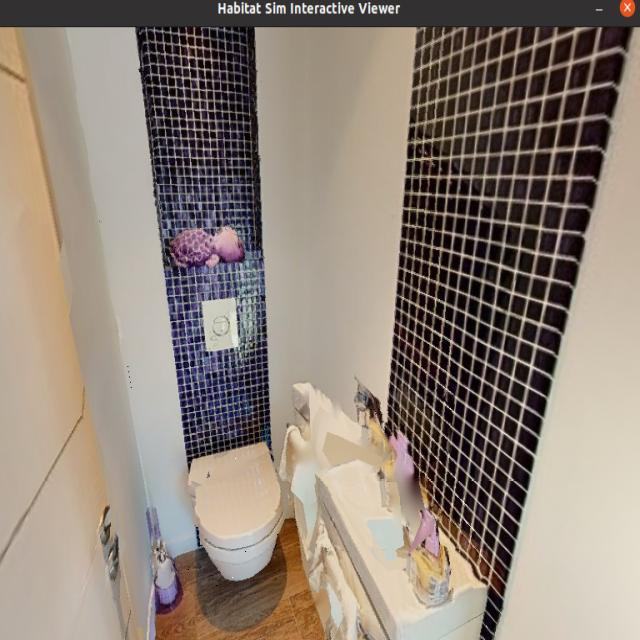toilet: (186, 430, 284, 602)
